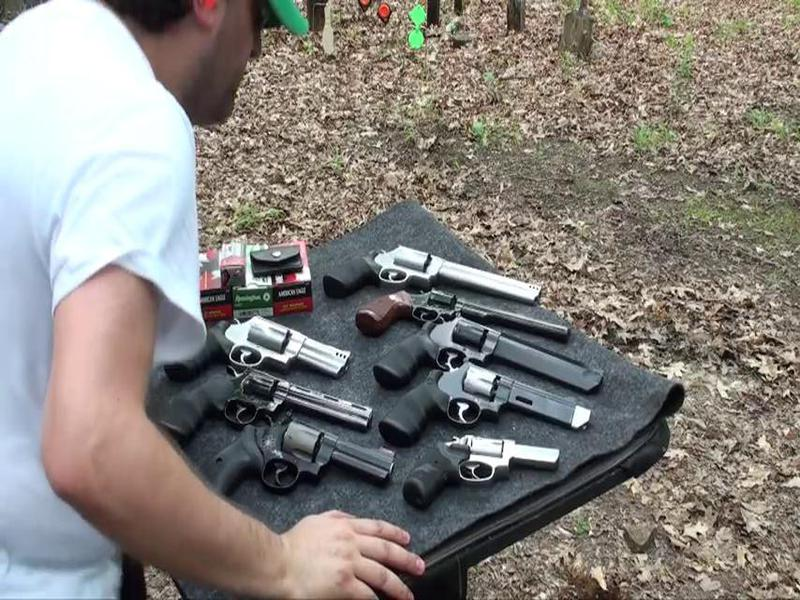Revolver: (322, 228, 560, 310)
